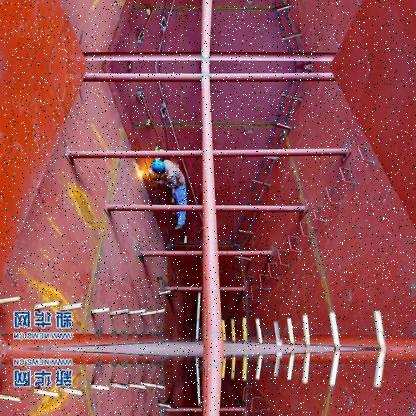helmet: (152, 157, 170, 173)
